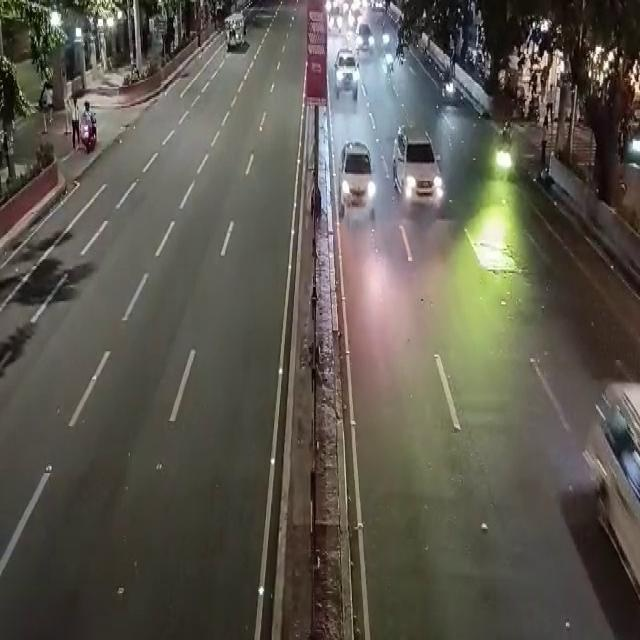car: (394, 132, 446, 216), (336, 138, 373, 224), (329, 46, 359, 99), (355, 20, 375, 50)
jeepney: (223, 8, 246, 51)
motorcycle: (494, 124, 517, 186), (81, 94, 96, 158), (440, 60, 456, 106), (383, 52, 396, 92)
